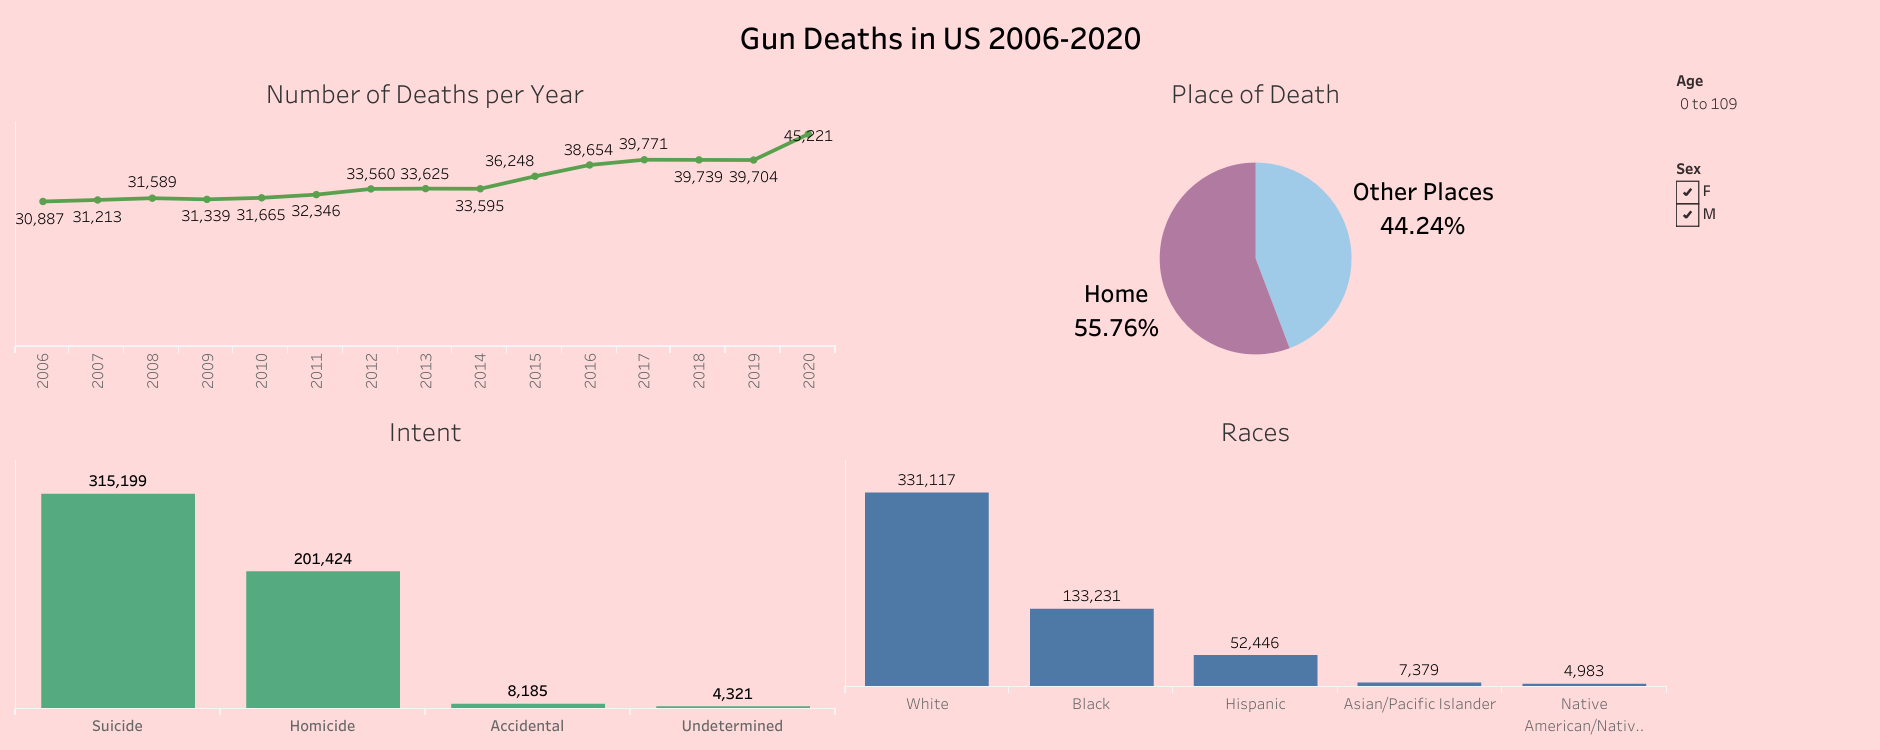

Layout of this report page (visuals, bound fields, positions):
{"tool":"tableau","page":{"name":"Gun Deaths in US 2006-2020","canvas":[1000,1000],"units":"permille","ordinal":0},"visuals":[{"type":"title","box":[4.8,9.4,990.3,57.6]},{"type":"worksheet","title":"Number of Deaths per Year","mark":"Line","rows":["guns.csv_1F25F0BBBFCA4477B934024A4E5632A3"],"cols":["year"],"box":[4.8,67,446.9,461.8]},{"type":"worksheet","title":"Place of Death","mark":"Pie","box":[451.7,67,446.9,461.8]},{"type":"filter","title":"Intent","param":"[federated.0xe2bki0e81u7211e81ww0xtl8q0].[none:age:qk]","box":[898.6,67,96.6,85.8]},{"type":"filter","title":"Intent","param":"[federated.0xe2bki0e81u7211e81ww0xtl8q0].[none:sex:nk]","box":[898.6,152.8,96.6,96.4]},{"type":"legend","title":"Intent","param":"[federated.0xe2bki0e81u7211e81ww0xtl8q0].[none:sex:nk]","box":[898.6,249.1,96.6,28.2]},{"type":"worksheet","title":"Intent","mark":"Automatic","rows":["guns.csv_1F25F0BBBFCA4477B934024A4E5632A3"],"cols":["intent"],"box":[4.8,528.8,446.9,461.8]},{"type":"worksheet","title":"Races","mark":"Automatic","rows":["guns.csv_1F25F0BBBFCA4477B934024A4E5632A3"],"cols":["race"],"box":[451.7,528.8,446.9,461.8]}]}

Visuals, with their boxes on the dashboard's canvas, which has no fixed pixel size, in thousandths of its width and height (x1, y1, x2, y2). These are canvas units, not pixel positions in the 1880x750 screenshot, which may show the page scaled, cropped or inside an application window:
title: bbox=(5, 9, 995, 67)
"Number of Deaths per Year" worksheet (Line marks): bbox=(5, 67, 452, 529)
"Place of Death" worksheet (Pie marks): bbox=(452, 67, 899, 529)
"Intent" filter: bbox=(899, 67, 995, 153)
"Intent" filter: bbox=(899, 153, 995, 249)
"Intent" legend: bbox=(899, 249, 995, 277)
"Intent" worksheet: bbox=(5, 529, 452, 991)
"Races" worksheet: bbox=(452, 529, 899, 991)
